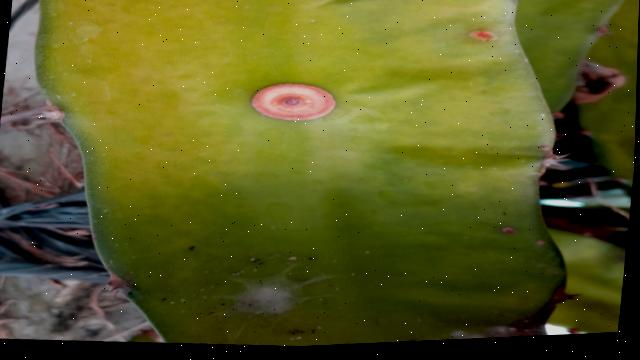stemcanker: (247, 80, 341, 125), (463, 24, 500, 46)
